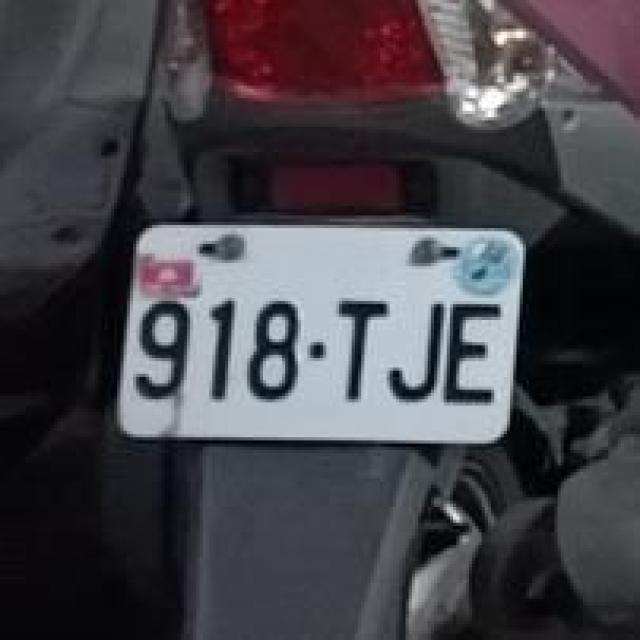W: (102, 194, 536, 456)
